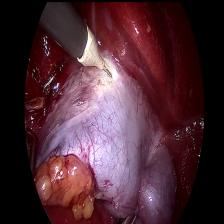Hook: (76, 24, 119, 82)
